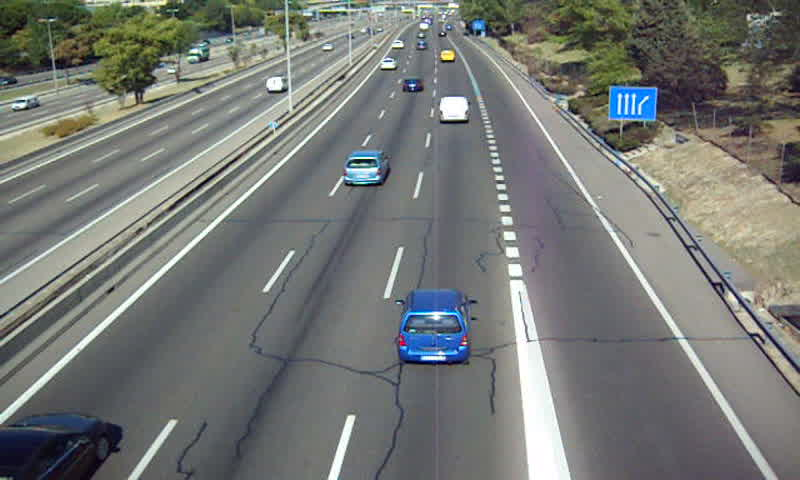car: (397, 290, 471, 364), (342, 149, 388, 184), (401, 77, 424, 92), (378, 58, 397, 73)
van: (438, 96, 471, 124)
